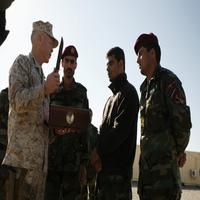knife: (52, 34, 68, 108)
